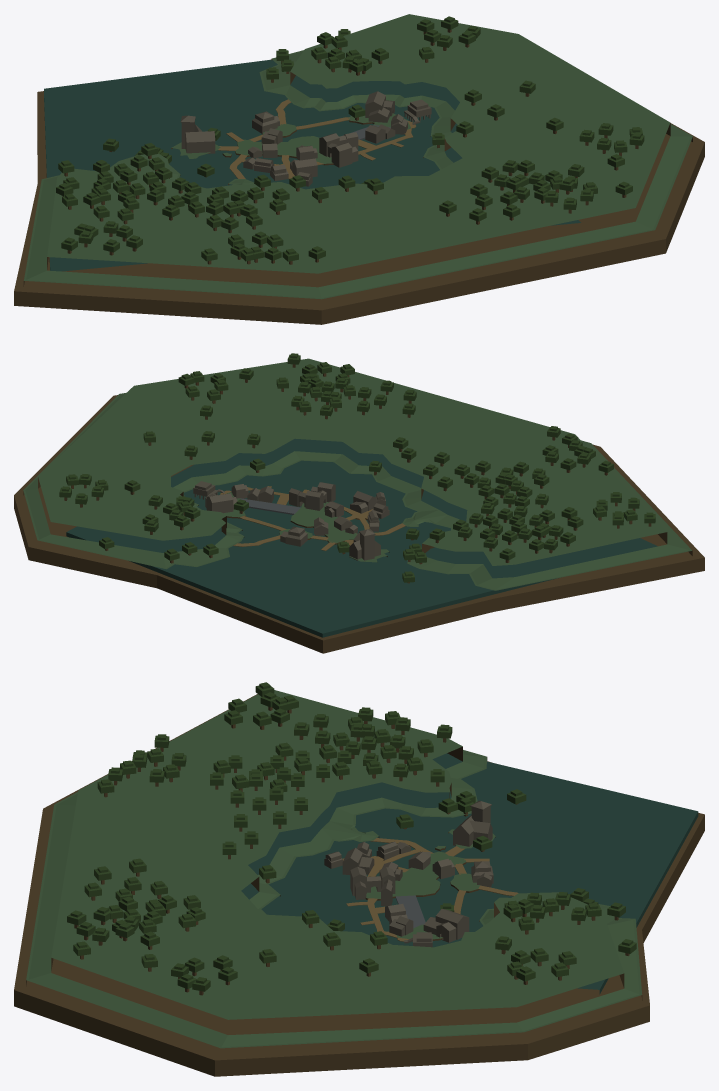
The model's file is Swamp.fbx.
3 renders of one model, top to bottom at view 1: azimuth 30°, elevation 25°; view 2: azimuth 150°, elevation 25°; view 3: azimuth 270°, elevation 25°, orthographic. The views are drawn at different scales.
Parts seen in each view (by area): view 1: Plane, Cube.007; view 2: Plane, Cube.007; view 3: Plane, Cube.007.
Boxes of the visible parts, x1,y1,x2,y2 form: Plane: (14, 14, 704, 324); Cube.007: (180, 91, 431, 186); Plane: (14, 358, 704, 653); Cube.007: (193, 481, 389, 561); Plane: (14, 690, 704, 1076); Cube.007: (324, 800, 493, 947).
Bounding box in the file's own units: 12103 × 909 × 9616.
